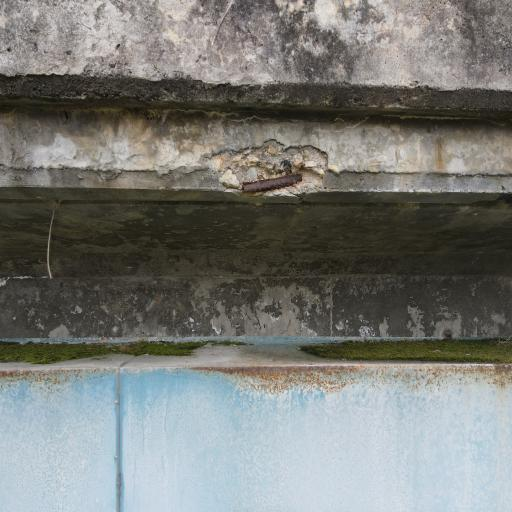exposed_rebar: (242, 174, 302, 192)
spalling: (210, 139, 328, 194)
